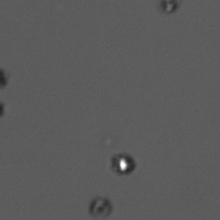Dead Cell: (85, 194, 115, 218), (159, 1, 182, 16)
Living Cell: (108, 150, 138, 176)
